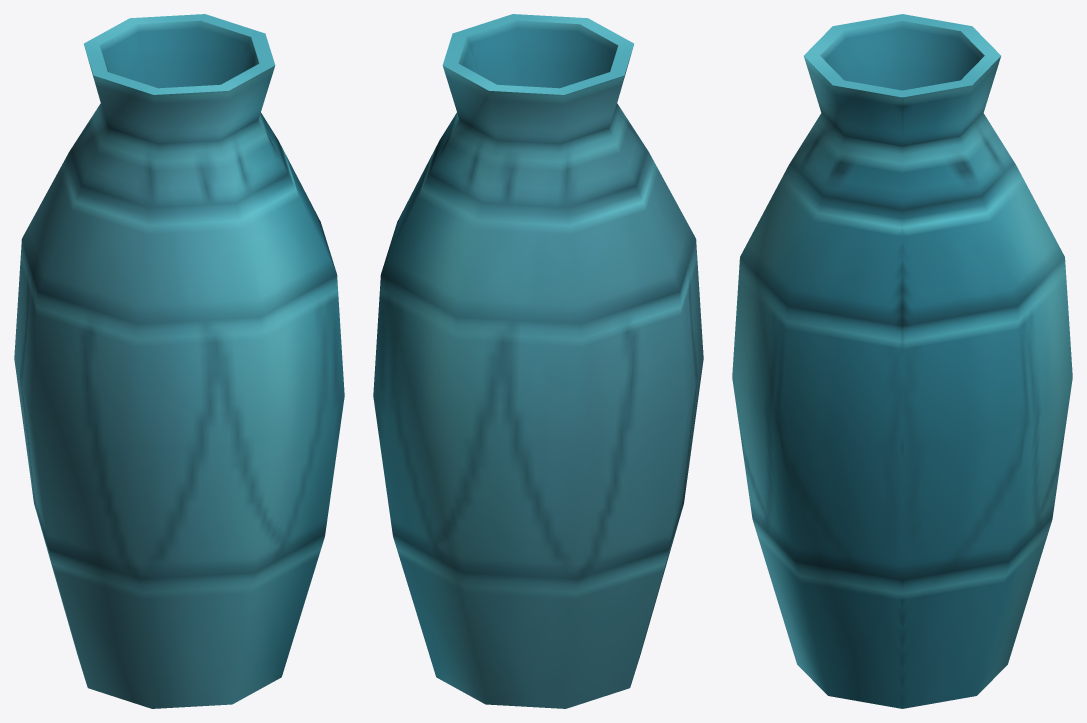
Rendered from zhucheng_guanzi_3.FBX.
3 renders of one model, left to right at view 1: azimuth 30°, elevation 25°; view 2: azimuth 150°, elevation 25°; view 3: azimuth 270°, elevation 25°, orthographic.
Visible parts, largest first — view 1: zhucheng_guanzi_3; view 2: zhucheng_guanzi_3; view 3: zhucheng_guanzi_3.
Boxes of the visible parts, left/top/right/bottom form: zhucheng_guanzi_3: left=14, top=14, right=344, bottom=708; zhucheng_guanzi_3: left=373, top=14, right=703, bottom=708; zhucheng_guanzi_3: left=732, top=14, right=1072, bottom=708.
Size of the model in its own units: 17.8 by 35.1 by 17.8.
